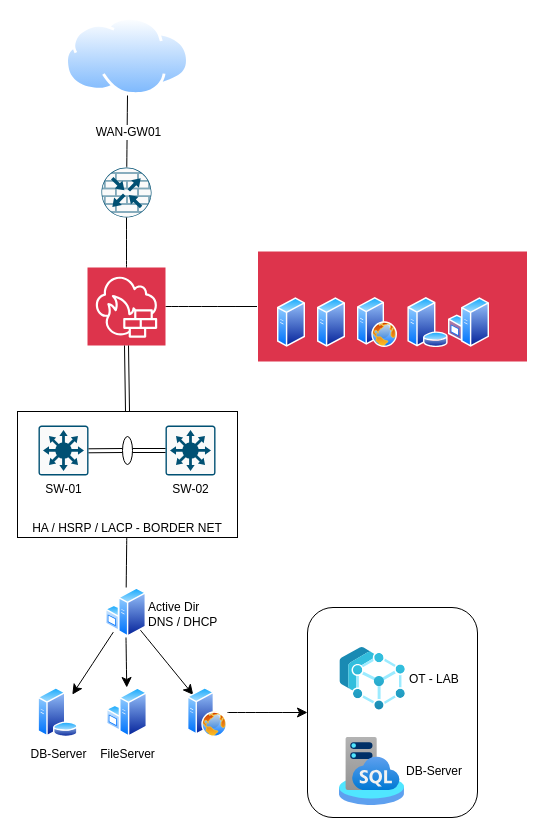
This 545x835 diagram has some shape labels left out. The box of each missing label's shape, as (x1, y1, x2, y2) in pixels:
DMZ - ZONE -TG 001: (256, 250, 528, 362)
ERP_INTERNAL: (187, 687, 227, 737)
Internal System: (306, 606, 478, 818)
R1 - SDA1: (100, 166, 152, 218)
